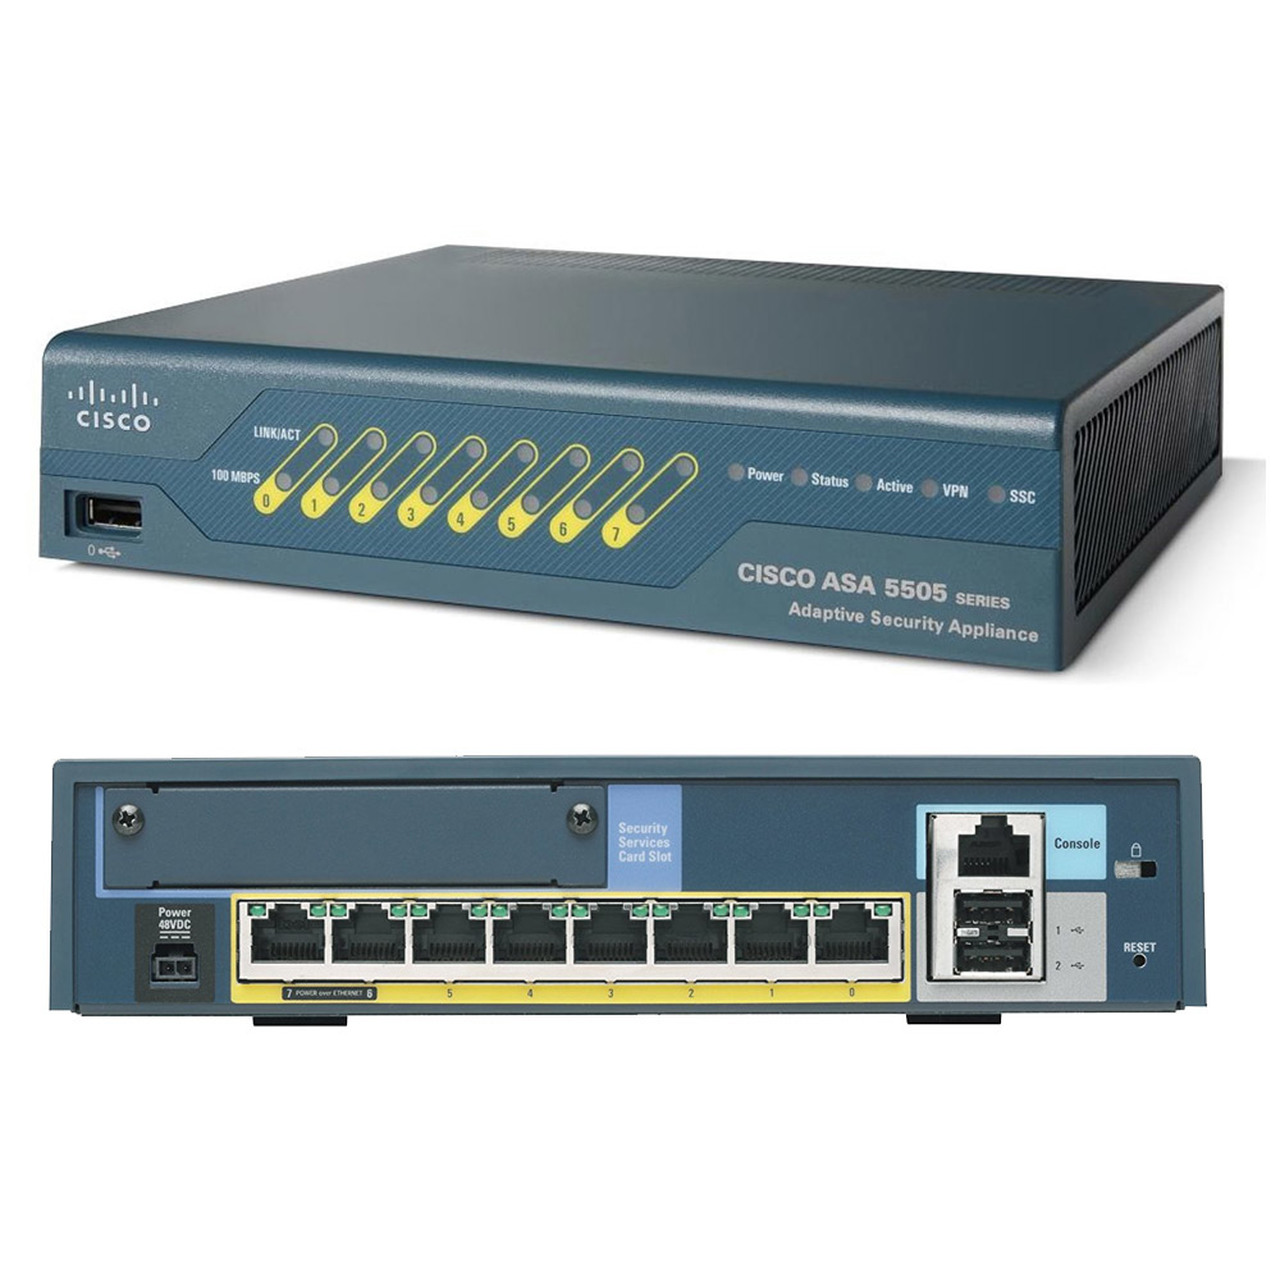Firewall: (21, 202, 1265, 692), (38, 742, 1233, 1053)
